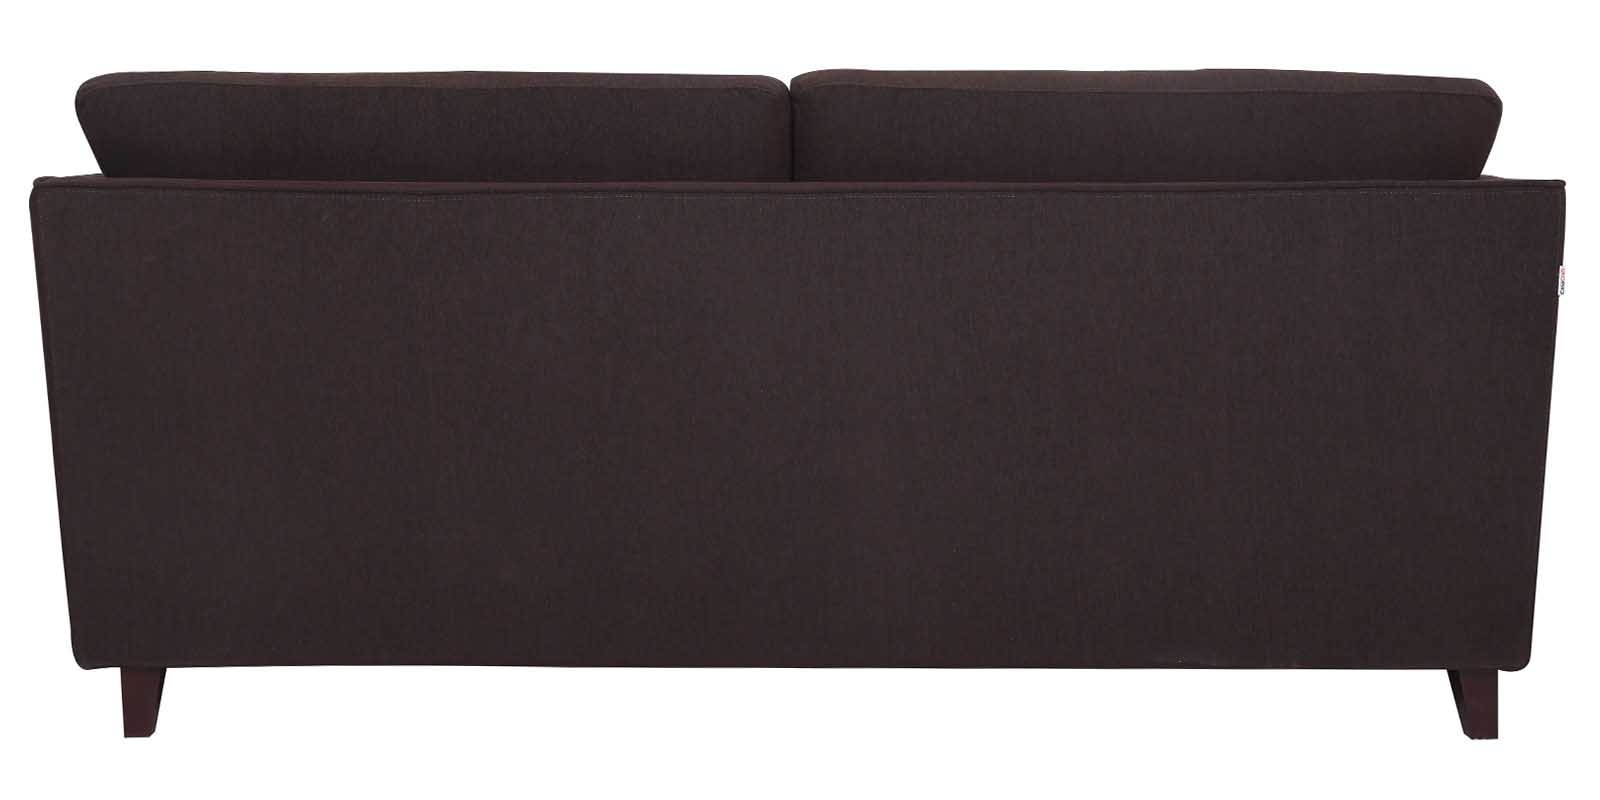Miranda Three Seater Sofa in Chestnut Brown Colour by CasaCraft: (26, 72, 1567, 739)
